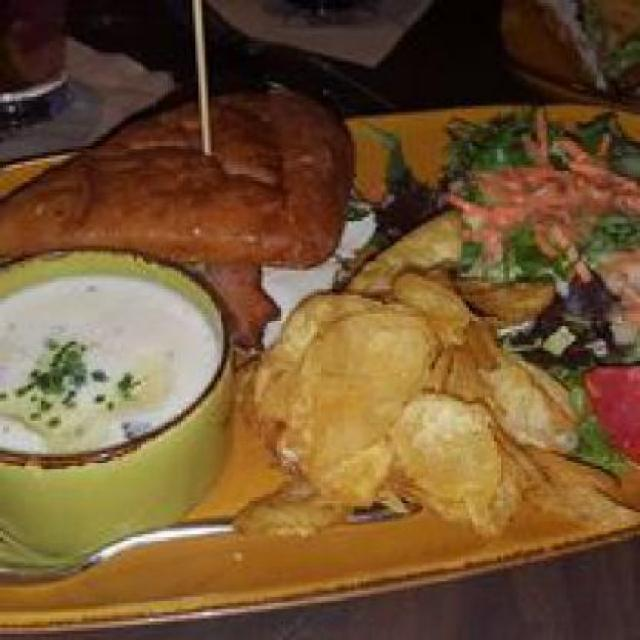beef carpaccio: (434, 109, 638, 476)
club sandwich: (22, 71, 376, 317)
